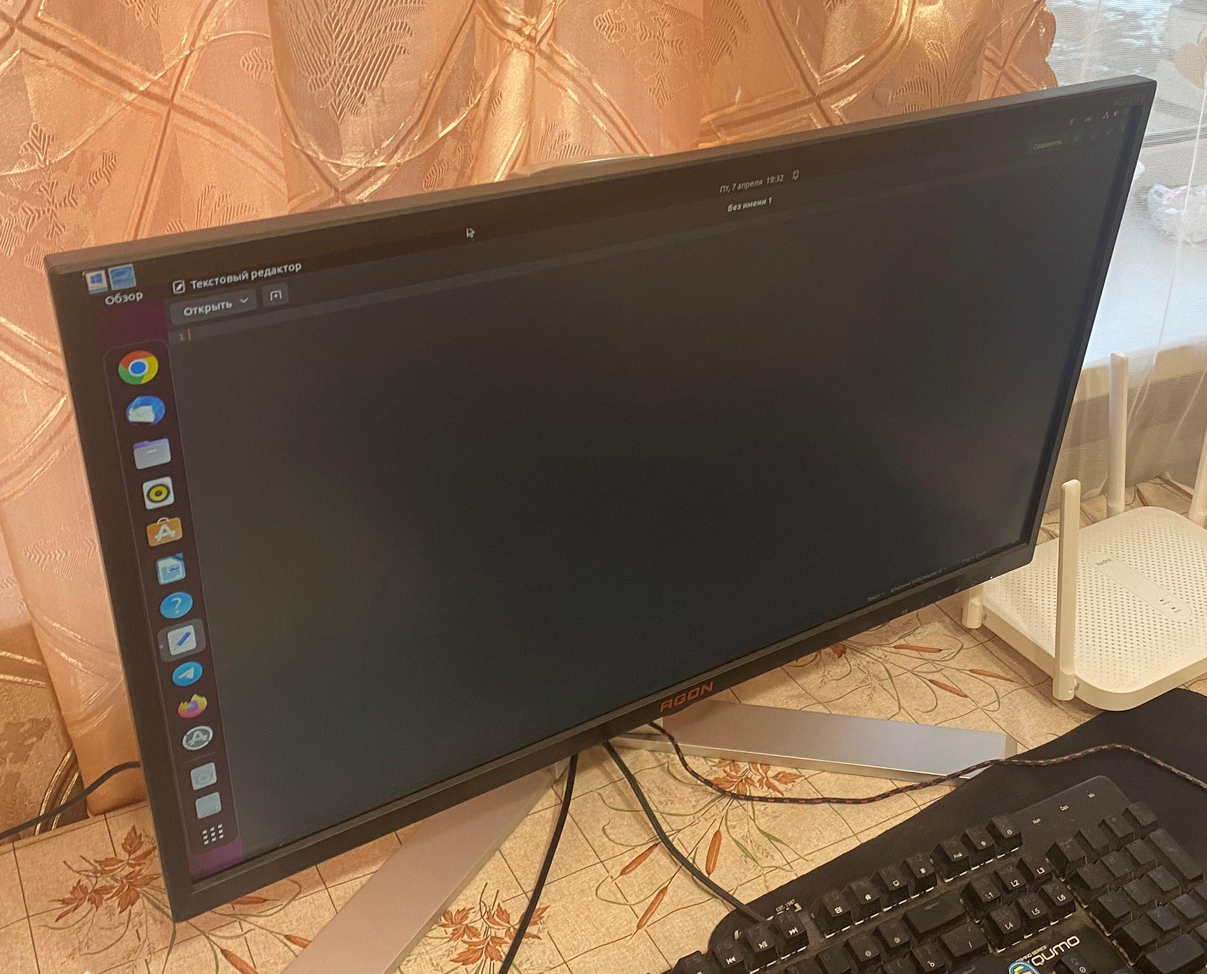monitor: (38, 64, 1155, 929)
